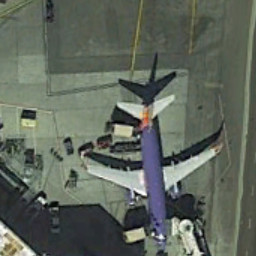Airplane: (76, 89, 229, 256)
